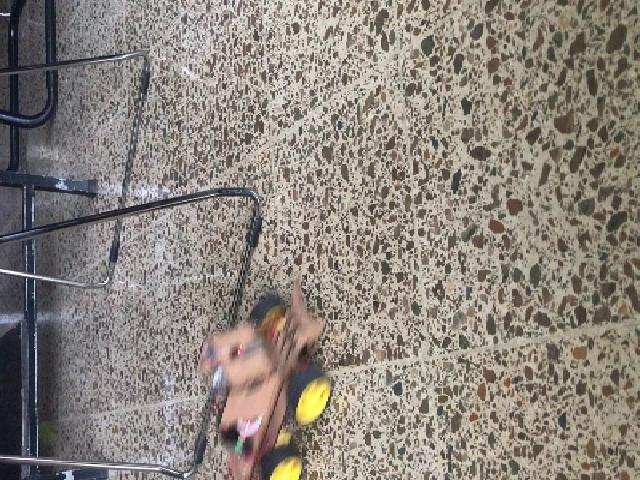Robot: (192, 275, 331, 479)
